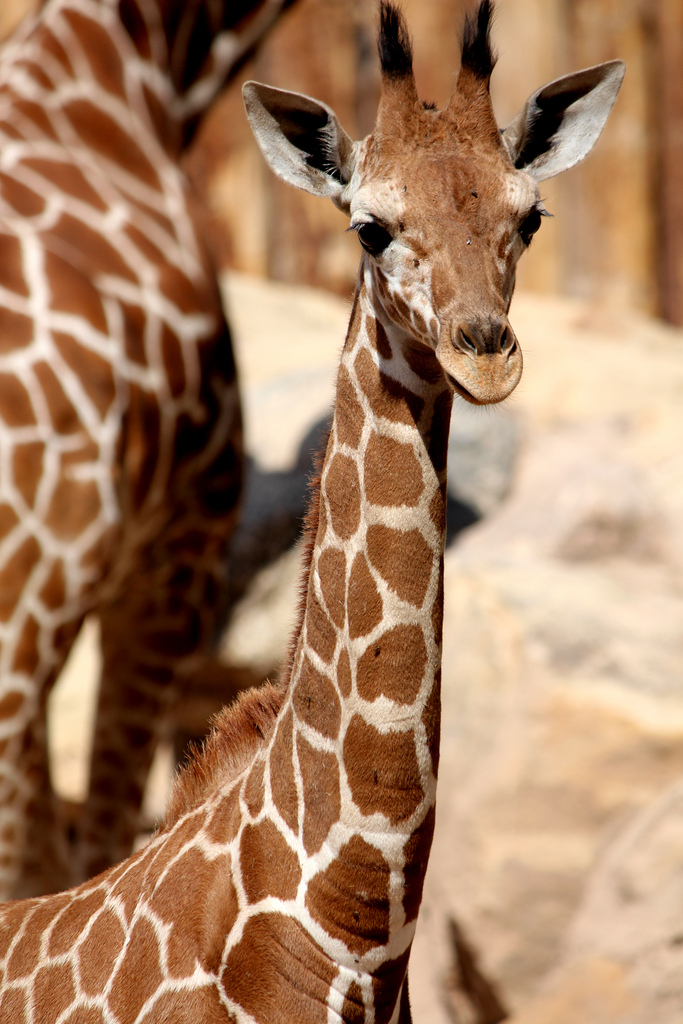giraffe: (33, 33, 645, 970)
